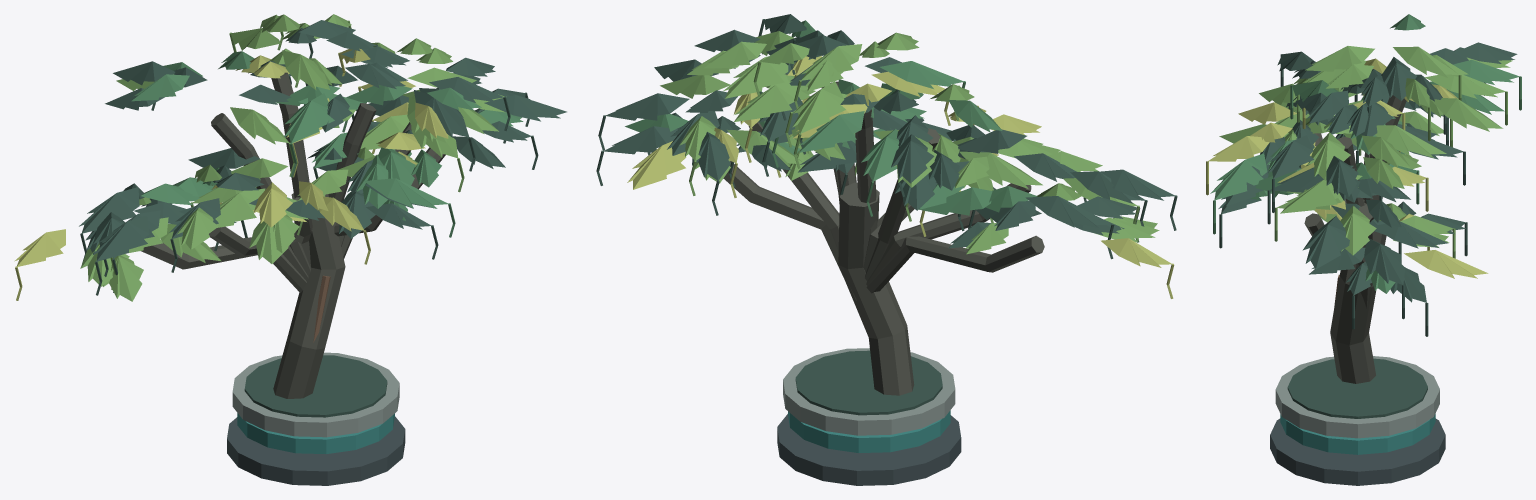
The model's file is salt_willow.glb.
3 renders of one model, left to right at view 1: azimuth 30°, elevation 25°; view 2: azimuth 150°, elevation 25°; view 3: azimuth 270°, elevation 25°, orthographic. The views are drawn at different scales.
Visible parts, largest first — view 1: salt_willow; view 2: salt_willow; view 3: salt_willow.
Part boxes in pixels (x1=…): salt_willow: x1=14, y1=14, x2=566, y2=485; salt_willow: x1=596, y1=14, x2=1177, y2=485; salt_willow: x1=1206, y1=14, x2=1521, y2=485.
Bounding box in the file's own units: 6.56 × 4.8 × 3.42.
